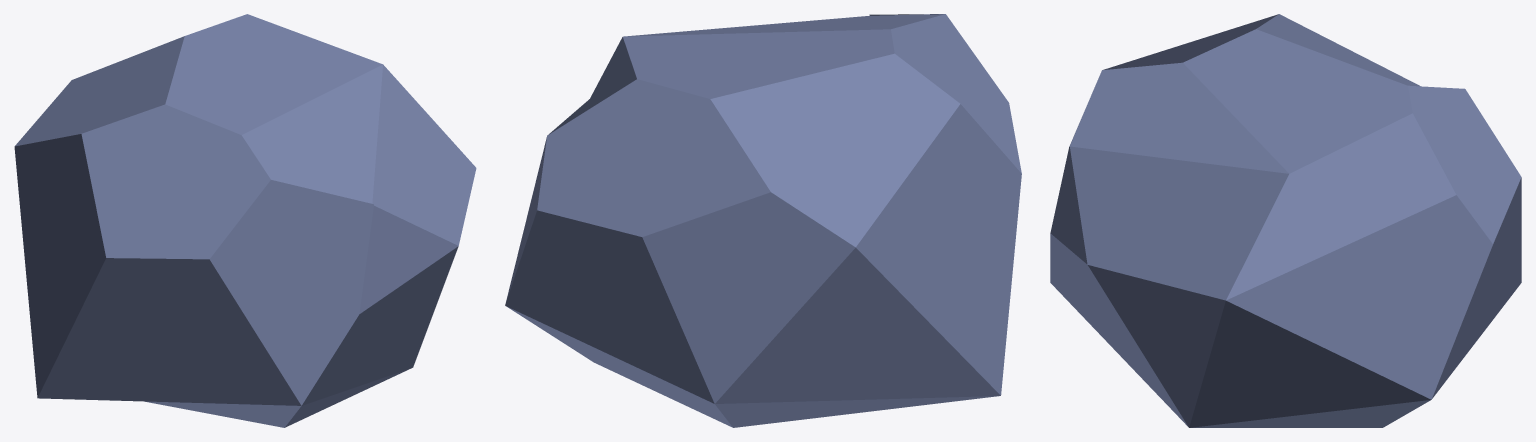
File: Rock Granit 02.fbx
3 renders of one model, left to right at view 1: azimuth 30°, elevation 25°; view 2: azimuth 150°, elevation 25°; view 3: azimuth 270°, elevation 25°, orthographic. The views are drawn at different scales.
Visible parts, largest first — view 1: Rock Granit 02; view 2: Rock Granit 02; view 3: Rock Granit 02.
Part boxes in pixels (x1=…): Rock Granit 02: x1=14, y1=14, x2=476, y2=427; Rock Granit 02: x1=505, y1=14, x2=1021, y2=427; Rock Granit 02: x1=1050, y1=14, x2=1521, y2=427.
Bounding box in the file's own units: 156 × 106 × 155.
